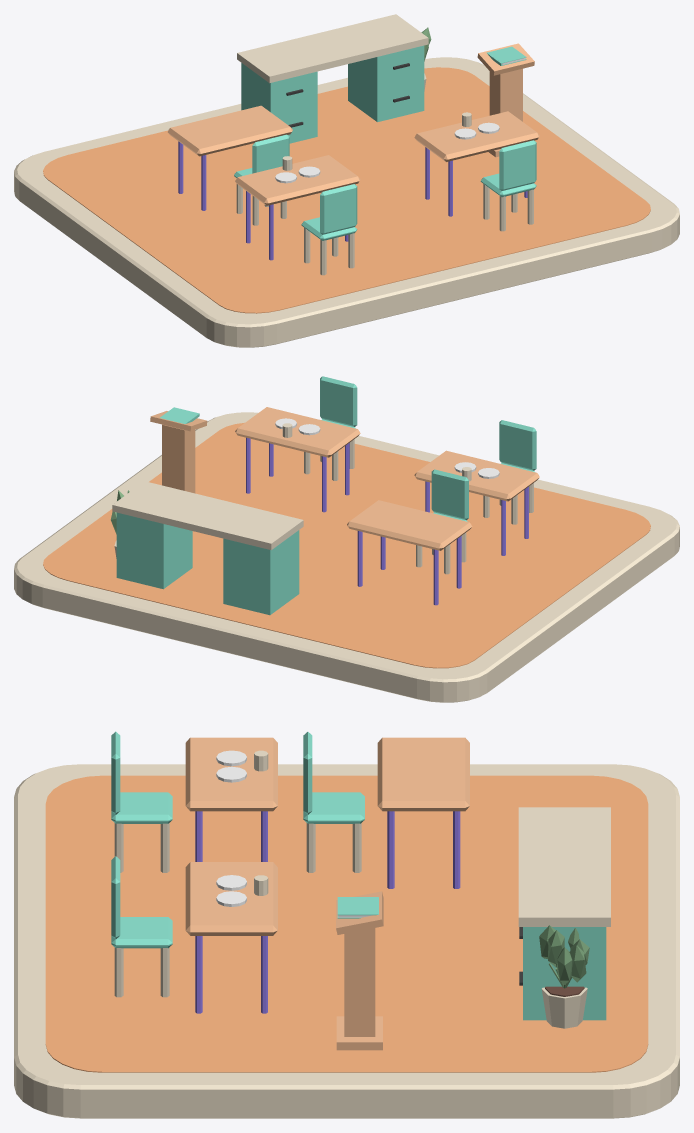
3 views of the same model, one above another, from view 1: azimuth 30°, elevation 25°; view 2: azimuth 150°, elevation 25°; view 3: azimuth 270°, elevation 25° (orthographic). The views are drawn at different scales.
Parts seen in each view (by area): view 1: COM-02 Floor Surface, COM-01 Rounded Base Direct, Worktop, Storage module.001, Storage module, Rounded table top.002, Rounded table top, Rounded table top.001, Backrest, Backrest.001, Body, Backrest.002 (+3 smaller); view 2: COM-02 Floor Surface, COM-01 Rounded Base Direct, Worktop, Storage module, Storage module.001, Rounded table top.002, Rounded table top.001, Rounded table top, Body, Backrest, Backrest.001, Backrest.002; view 3: COM-02 Floor Surface, COM-01 Rounded Base Direct, Worktop, Rounded table top.002, Rounded table top, Rounded table top.001, Storage module.001, Pot, Body, Seat.002, Seat, Seat.001 (+9 smaller).
Part boxes in pixels (x1=…): COM-02 Floor Surface: x1=43, y1=67, x2=650, y2=313; COM-01 Rounded Base Direct: x1=14, y1=57, x2=679, y2=347; Worktop: x1=237, y1=14, x2=428, y2=83; Storage module.001: x1=348, y1=45, x2=424, y2=122; Storage module: x1=241, y1=63, x2=317, y2=143; Rounded table top.002: x1=167, y1=105, x2=292, y2=156; Rounded table top: x1=235, y1=155, x2=360, y2=205; Rounded table top.001: x1=414, y1=111, x2=539, y2=161; Backrest: x1=320, y1=184, x2=357, y2=234; Backrest.001: x1=499, y1=140, x2=536, y2=190; Body: x1=489, y1=68, x2=522, y2=121; Backrest.002: x1=252, y1=134, x2=289, y2=173; COM-02 Floor Surface: x1=43, y1=422, x2=650, y2=668; COM-01 Rounded Base Direct: x1=14, y1=412, x2=679, y2=702; Worktop: x1=112, y1=481, x2=303, y2=550; Storage module: x1=223, y1=530, x2=299, y2=615; Storage module.001: x1=116, y1=512, x2=192, y2=589; Rounded table top.002: x1=347, y1=500, x2=472, y2=550; Rounded table top.001: x1=235, y1=407, x2=360, y2=457; Rounded table top: x1=414, y1=450, x2=539, y2=501; Body: x1=162, y1=424, x2=195, y2=493; Backrest: x1=499, y1=420, x2=536, y2=470; Backrest.001: x1=320, y1=376, x2=357, y2=426; Backrest.002: x1=431, y1=469, x2=468, y2=520; COM-02 Floor Surface: x1=45, y1=775, x2=648, y2=1072; COM-01 Rounded Base Direct: x1=14, y1=764, x2=679, y2=1118; Worktop: x1=518, y1=807, x2=610, y2=926; Rounded table top.002: x1=377, y1=737, x2=469, y2=811; Rounded table top: x1=185, y1=737, x2=277, y2=811; Rounded table top.001: x1=185, y1=862, x2=277, y2=935; Storage module.001: x1=523, y1=927, x2=606, y2=1020; Pot: x1=539, y1=925, x2=589, y2=1028; Body: x1=344, y1=928, x2=375, y2=1036; Seat.002: x1=303, y1=792, x2=364, y2=823; Seat: x1=111, y1=792, x2=172, y2=823; Seat.001: x1=111, y1=917, x2=172, y2=948.
Bounding box in the file's own units: 6 × 1.43 × 5.2.
Materials: 1 (1 with a texture image).
